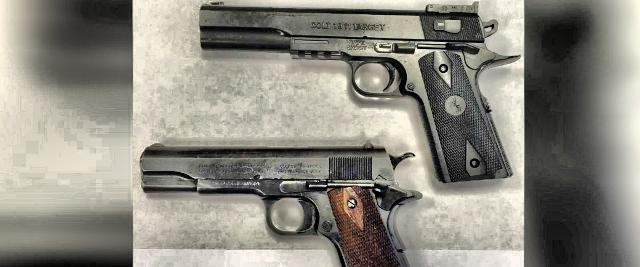pistol: (194, 1, 516, 186), (135, 140, 429, 266)
